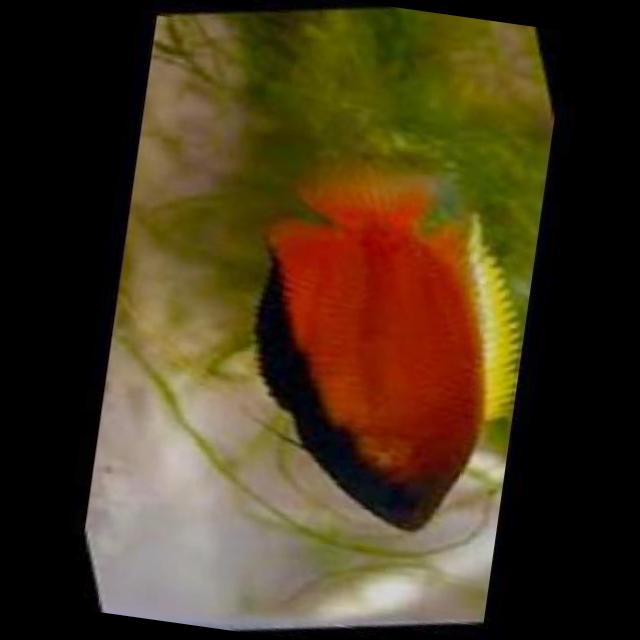Gourami: (222, 155, 546, 546)
